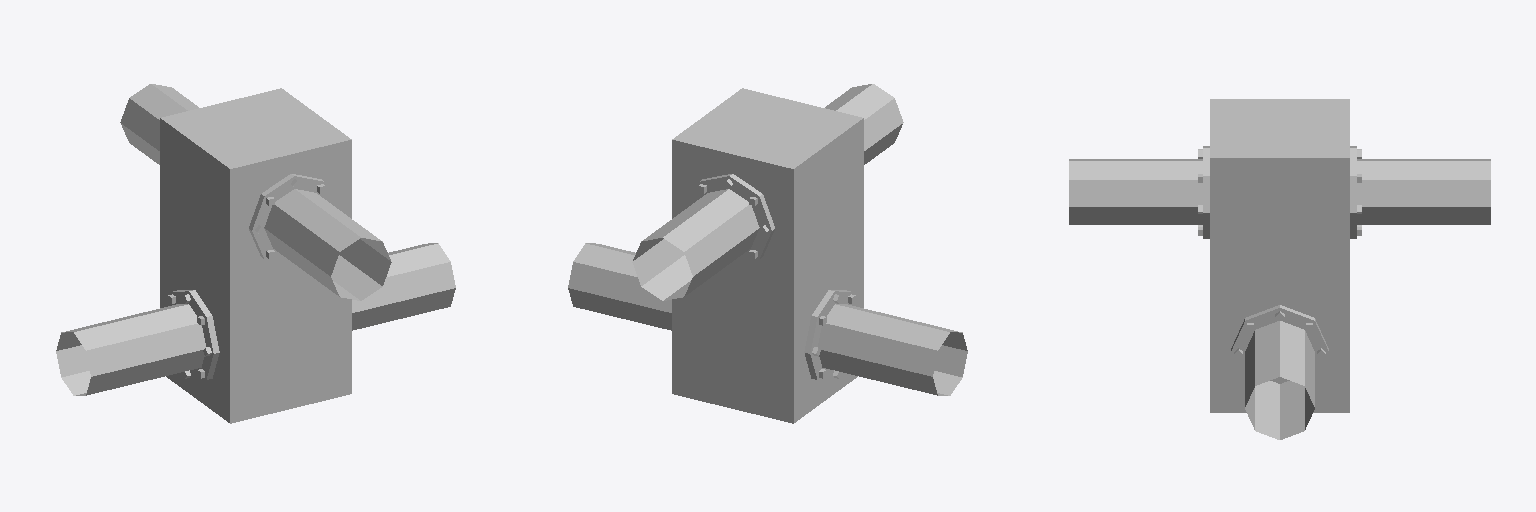
The model's file is VerticalZipper_2_IoPortShape_Pipe.obj.
3 views of the same model, side by side, from view 1: azimuth 30°, elevation 25°; view 2: azimuth 150°, elevation 25°; view 3: azimuth 270°, elevation 25° (orthographic).
Size of the model in its own units: 6 by 4 by 6.